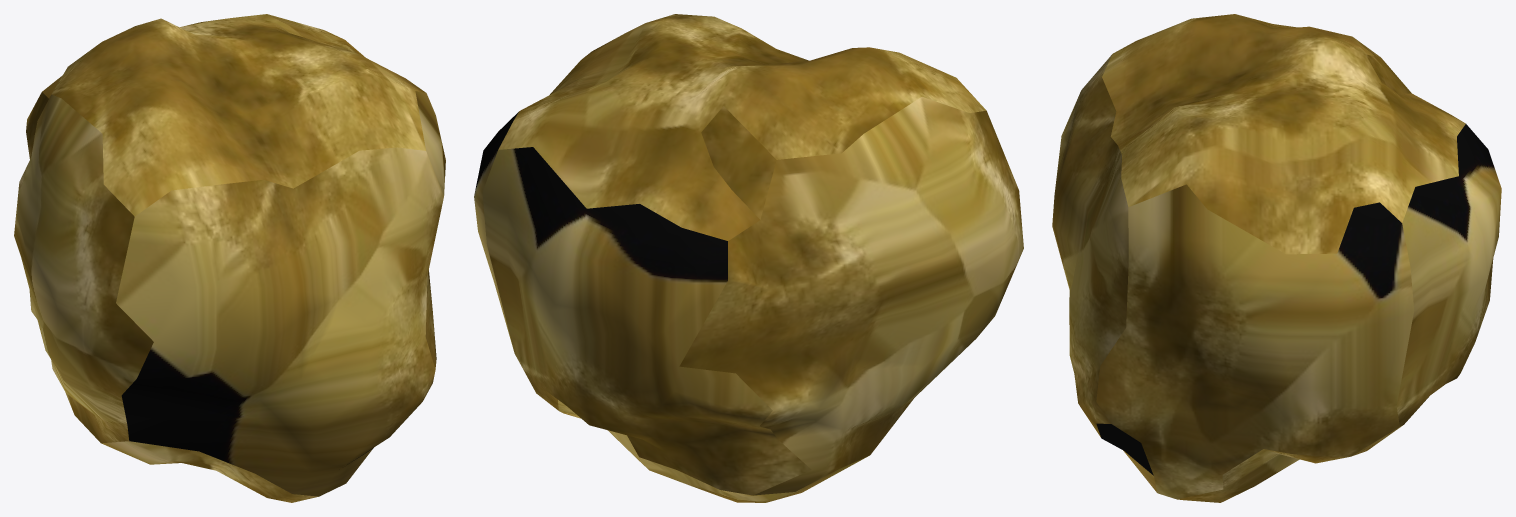
File: gold-nugget.glb
3 views of the same model, side by side, from view 1: azimuth 30°, elevation 25°; view 2: azimuth 150°, elevation 25°; view 3: azimuth 270°, elevation 25° (orthographic). The views are drawn at different scales.
Parts seen in each view (by area): view 1: nugget; view 2: nugget; view 3: nugget.
Boxes of the visible parts, x1,y1,x2,y2 form: nugget: [14, 14, 445, 502]; nugget: [474, 14, 1023, 502]; nugget: [1052, 14, 1501, 502].
Size of the model in its own units: 0.32 by 0.319 by 0.3055.
Materials: 1 (1 with a texture image).
